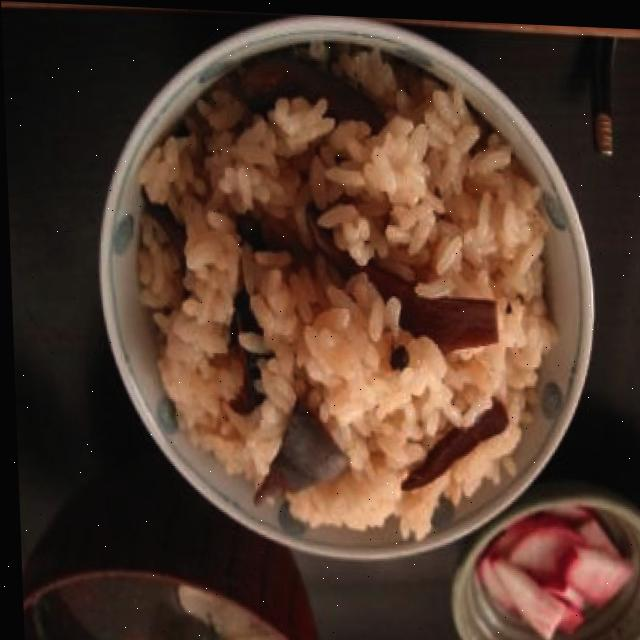汤锅炖物: (26, 578, 296, 640)
米饭主食: (86, 3, 604, 565)
